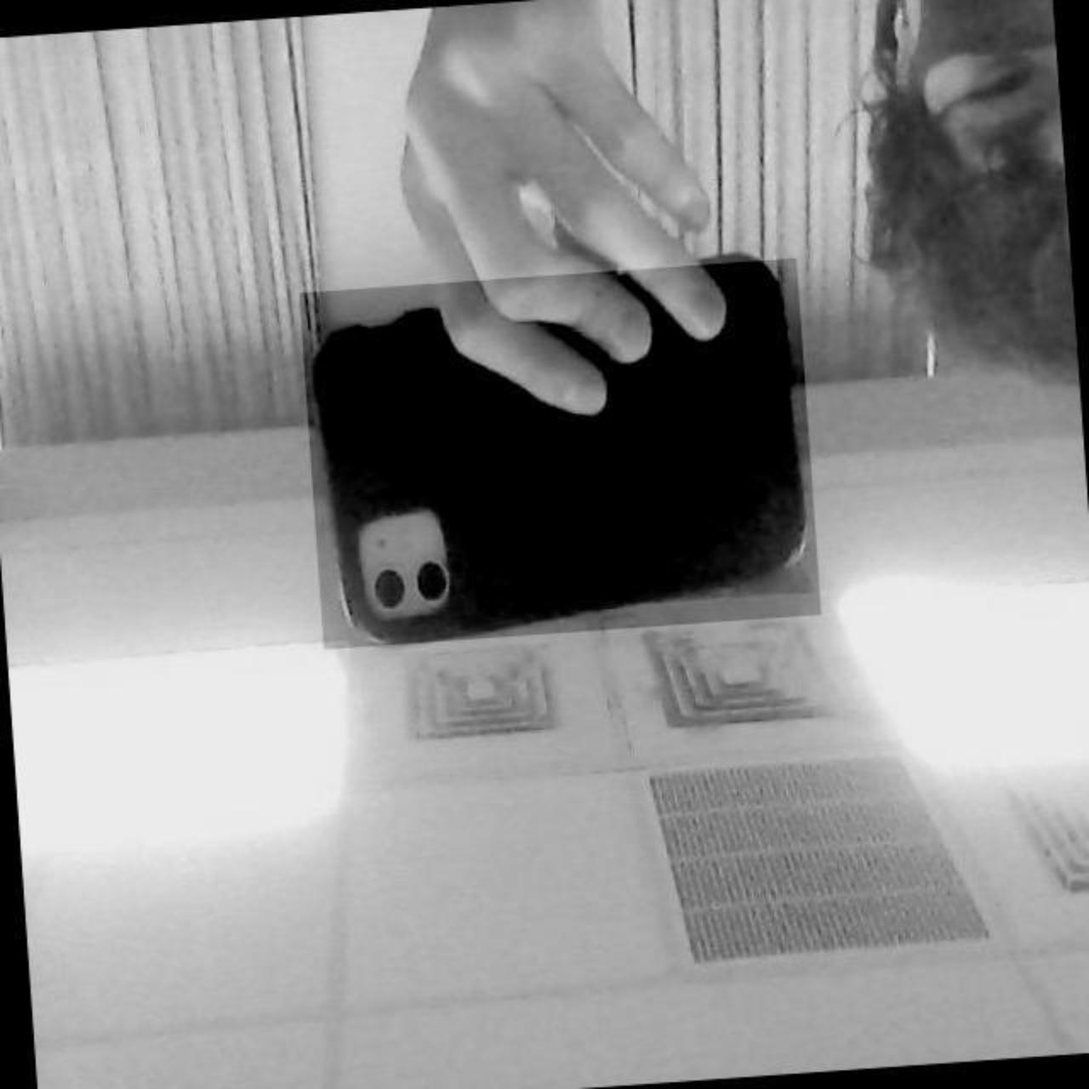phone: (311, 251, 833, 642)
